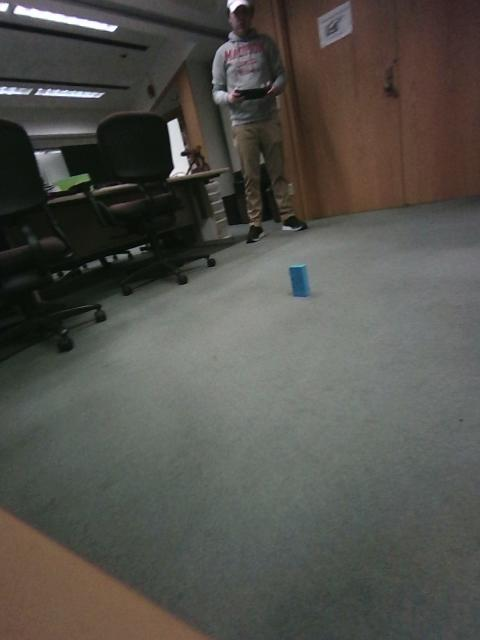block: (258, 354, 313, 419)
